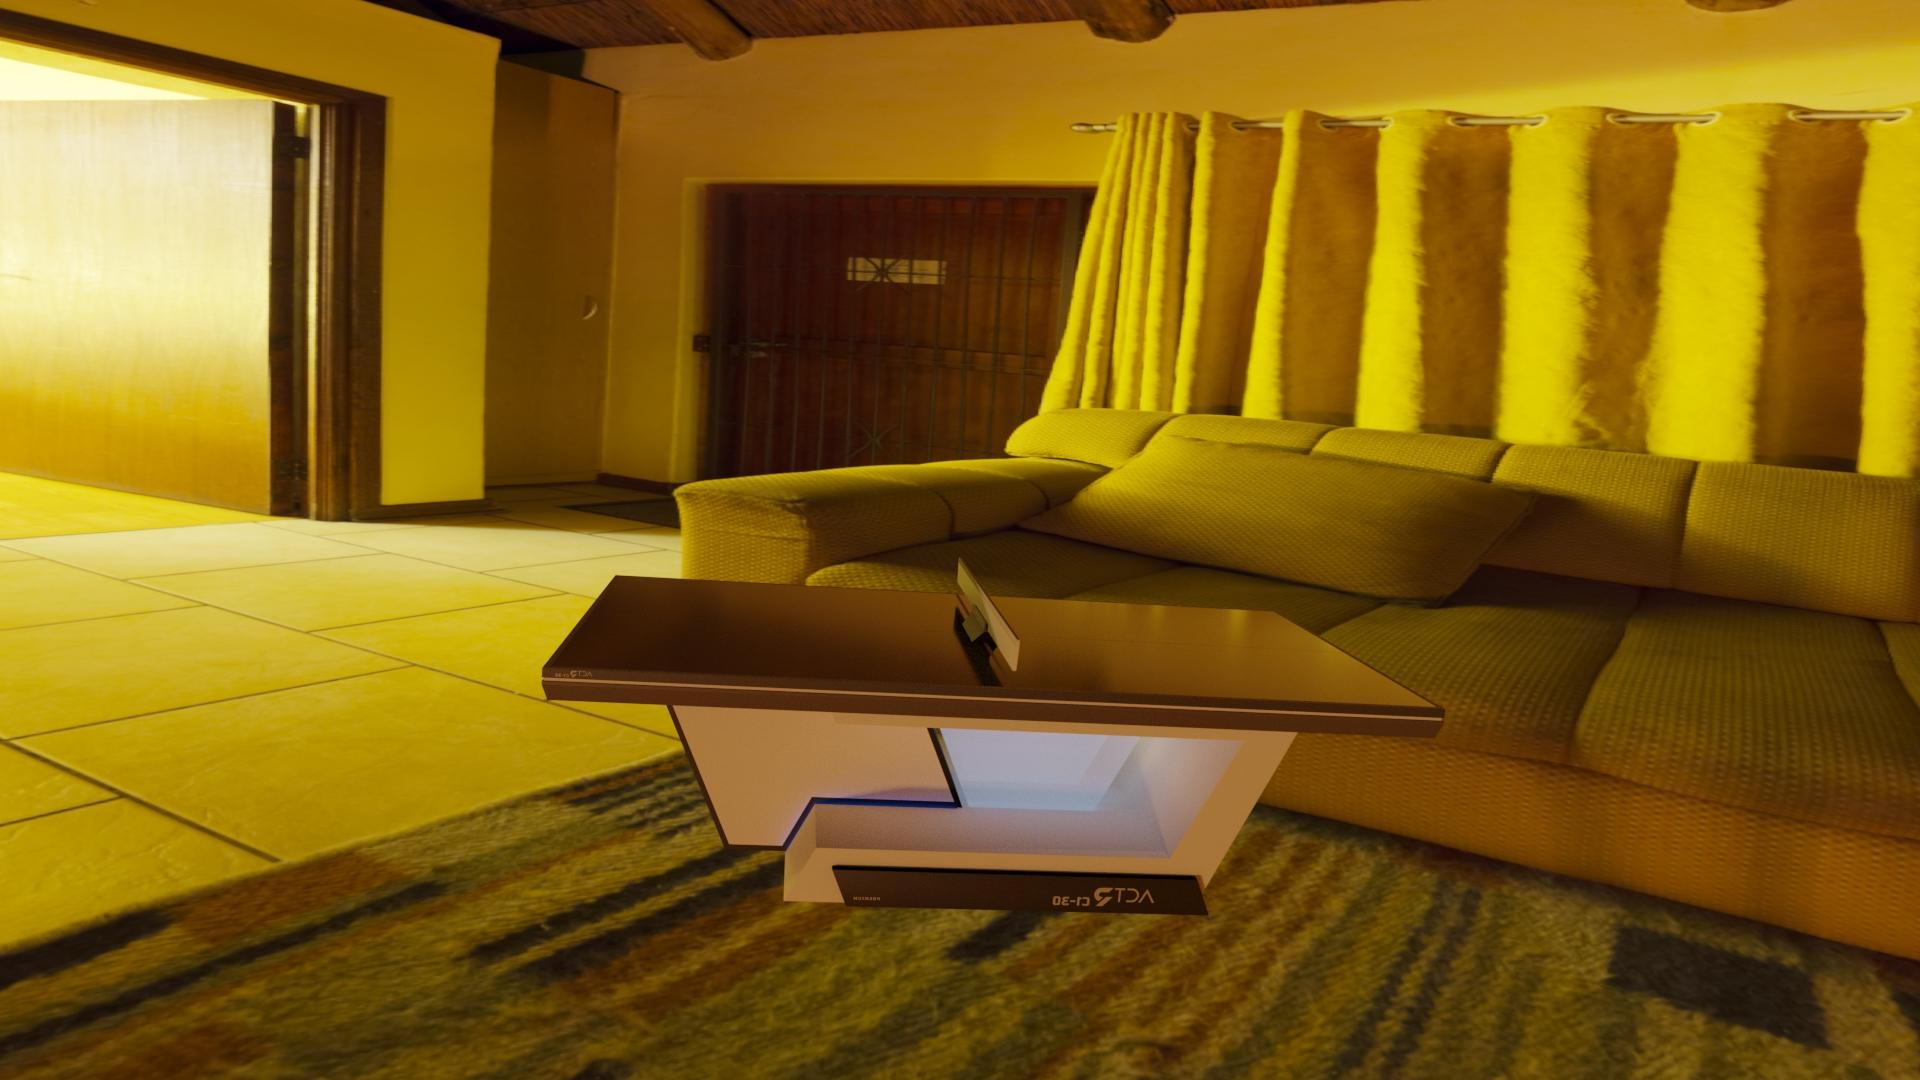table: (550, 576, 1436, 707)
